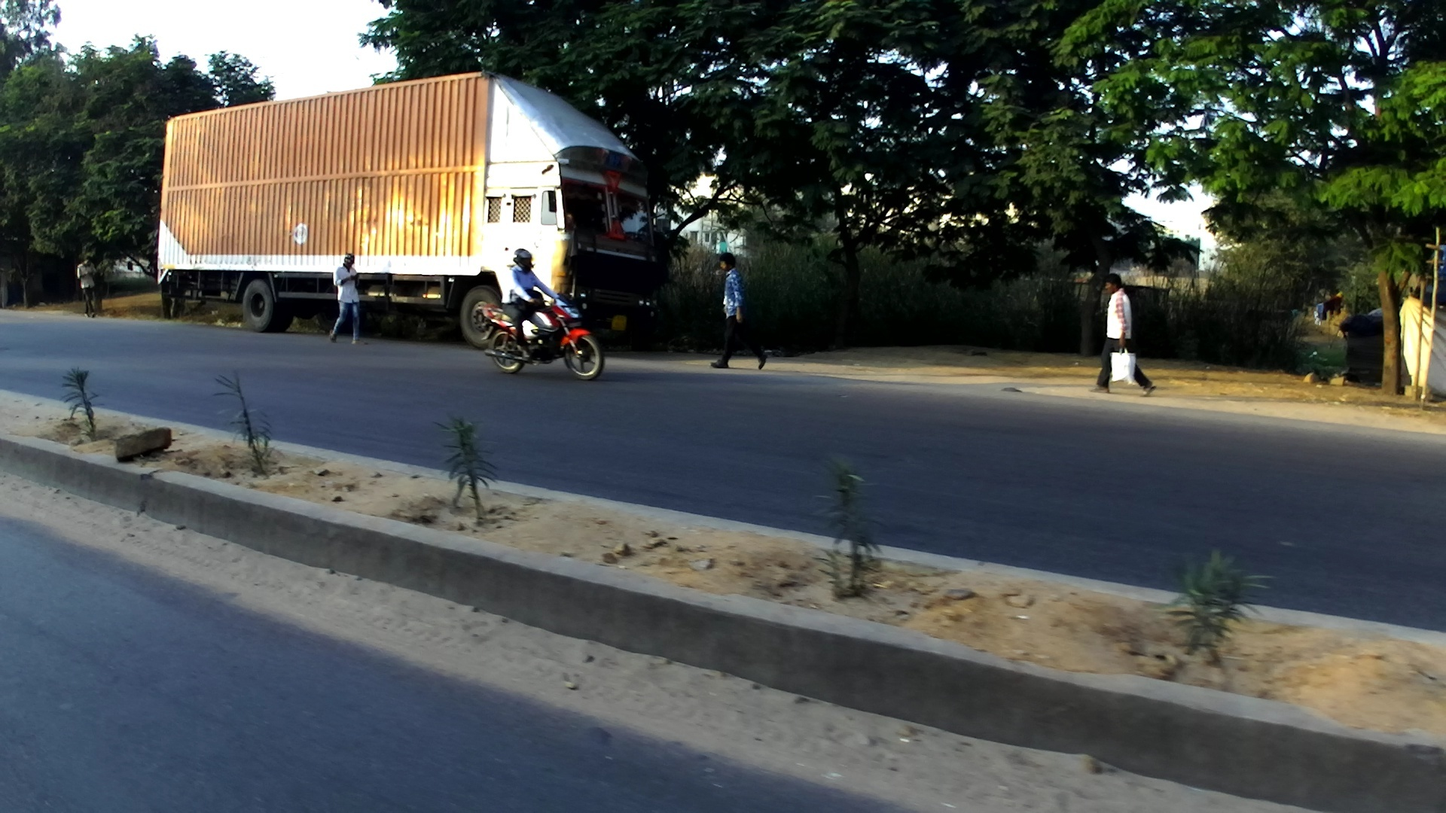motorcycle: (484, 288, 605, 378)
person: (1095, 270, 1153, 398), (709, 248, 766, 374), (326, 250, 366, 344), (73, 255, 101, 318)
rider: (498, 248, 560, 363)
truck: (154, 68, 662, 349)
